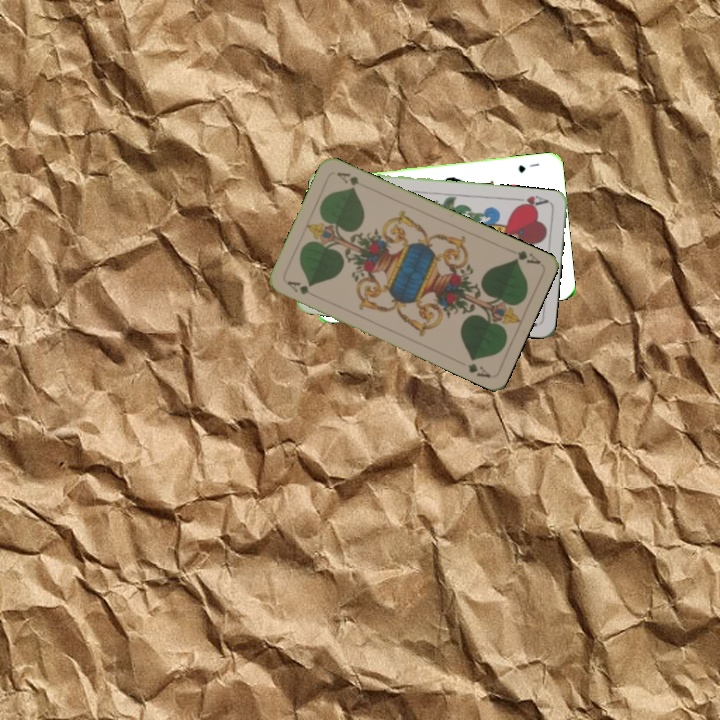GA: (283, 277, 321, 300), (508, 246, 543, 267)
GU: (514, 159, 542, 175)
HA: (511, 191, 551, 211)
